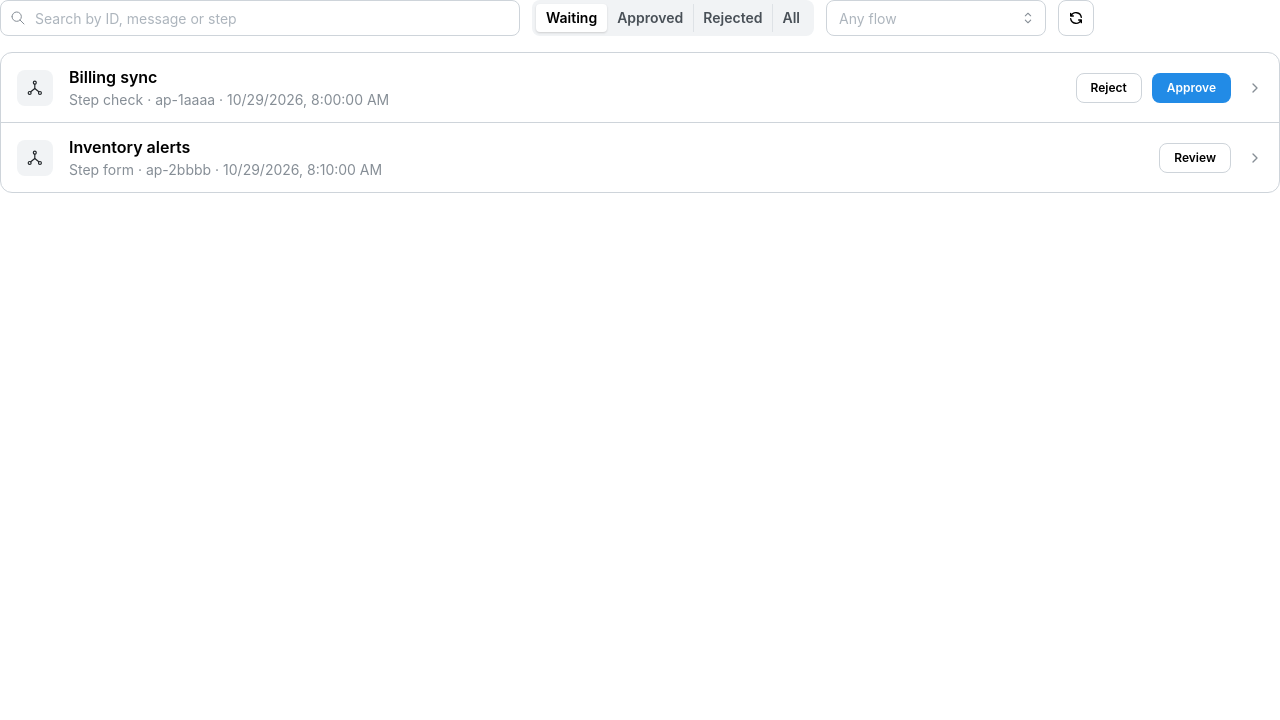
Scenario: approvals › sends an approval that needs answers to its review instead of approving blind
Click the button "Review" at (1195, 158), box top-left (1159, 143), bottom-right (1231, 173)
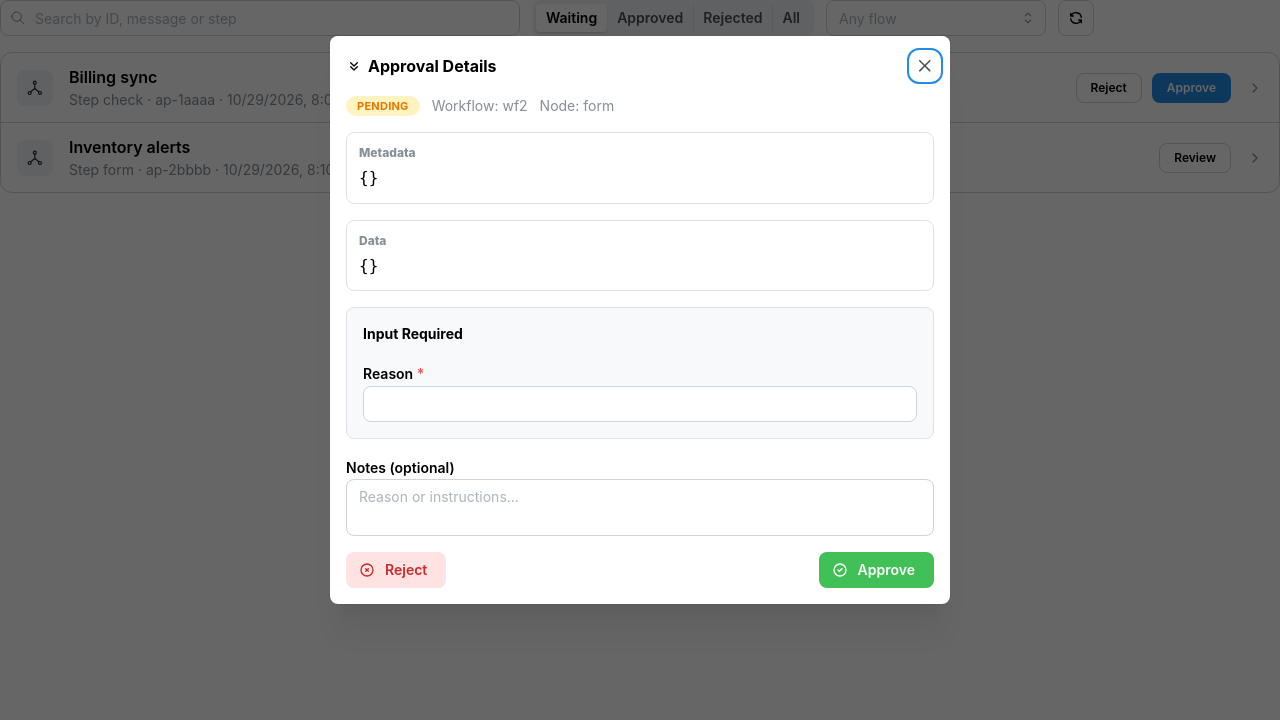
expect the field labelled "Reason *" is shown: met, box top-left (363, 386), bottom-right (917, 422)
